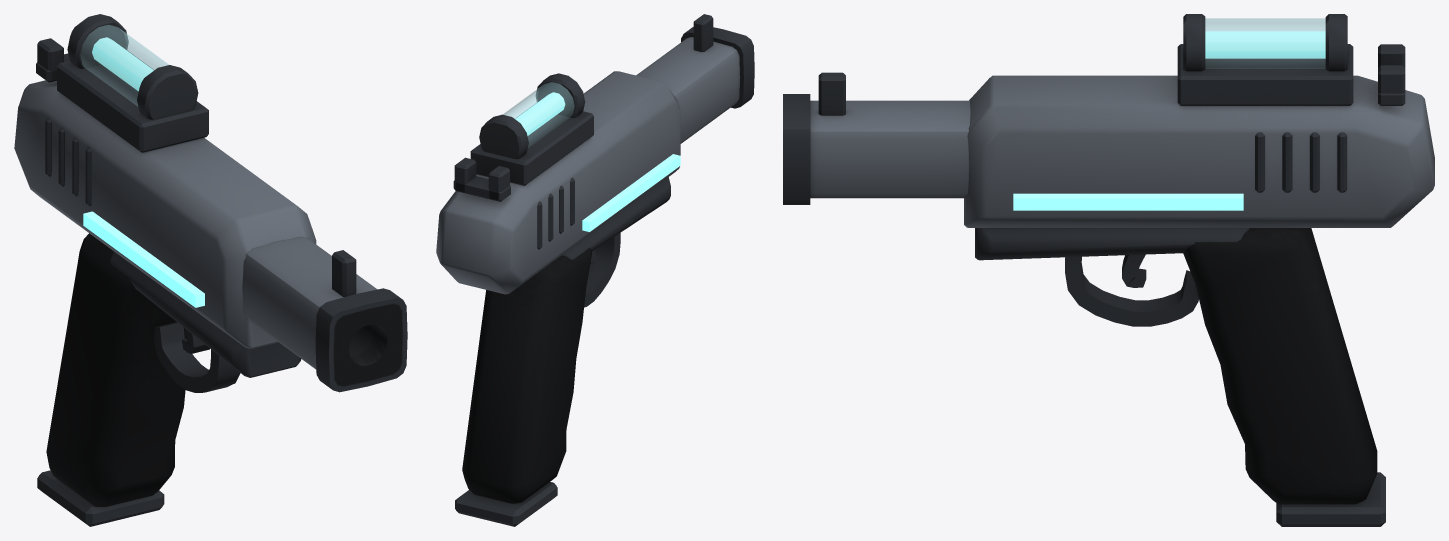
Rendered from pistola_plasma.fbx.
3 renders of one model, left to right at view 1: azimuth 30°, elevation 25°; view 2: azimuth 150°, elevation 25°; view 3: azimuth 270°, elevation 25°, orthographic. The views are drawn at different scales.
Visible parts, largest first — view 1: PistolaPlasma_Cuerpo, PistolaPlasma_Grip, PistolaPlasma_Canon, PistolaPlasma_Celda, PistolaPlasma_Gatillo, PistolaPlasma_Neon_01, PistolaPlasma_Neon_02; view 2: PistolaPlasma_Cuerpo, PistolaPlasma_Grip, PistolaPlasma_Canon, PistolaPlasma_Celda, PistolaPlasma_Neon_01, PistolaPlasma_Gatillo, PistolaPlasma_Neon_02; view 3: PistolaPlasma_Cuerpo, PistolaPlasma_Grip, PistolaPlasma_Canon, PistolaPlasma_Celda, PistolaPlasma_Gatillo, PistolaPlasma_Neon_01, PistolaPlasma_Neon_02.
Part boxes in pixels (x1,y1,x2,y2): PistolaPlasma_Cuerpo: (14,14,356,377); PistolaPlasma_Grip: (37,233,186,526); PistolaPlasma_Canon: (242,237,407,392); PistolaPlasma_Celda: (80,25,168,106); PistolaPlasma_Gatillo: (153,322,240,392); PistolaPlasma_Neon_01: (83,211,204,307); PistolaPlasma_Neon_02: (92,37,153,91); PistolaPlasma_Cuerpo: (436,14,713,294); PistolaPlasma_Grip: (455,248,591,526); PistolaPlasma_Canon: (636,27,754,143); PistolaPlasma_Celda: (503,82,574,147); PistolaPlasma_Neon_01: (582,154,680,231); PistolaPlasma_Gatillo: (584,233,620,307); PistolaPlasma_Neon_02: (515,92,565,135); PistolaPlasma_Cuerpo: (818,14,1434,260); PistolaPlasma_Grip: (1183,228,1385,526); PistolaPlasma_Canon: (783,94,970,204); PistolaPlasma_Celda: (1205,18,1325,68); PistolaPlasma_Gatillo: (1065,254,1198,326); PistolaPlasma_Neon_01: (1013,193,1243,210); PistolaPlasma_Neon_02: (1205,31,1325,58).
Bounding box in the file's own units: 0.0728 × 0.2776 × 0.333.
Materials: 4 (1 with a texture image).
